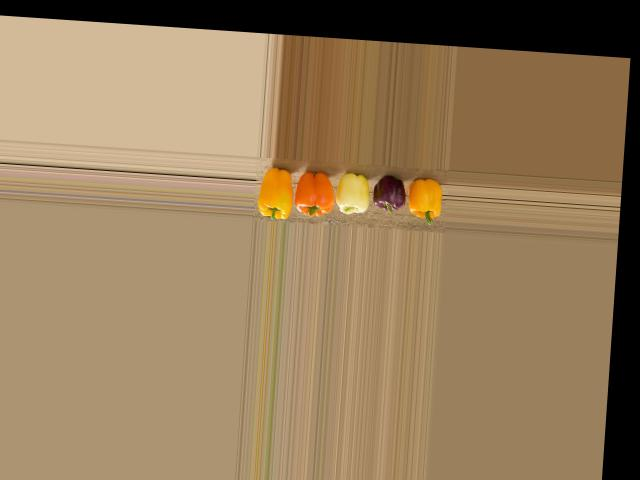bell_pepper: (409, 169, 447, 227)
